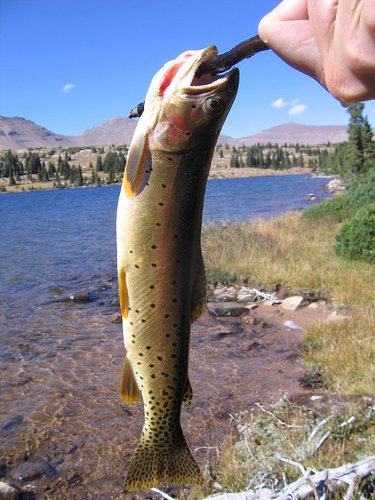fish: (112, 43, 237, 497)
